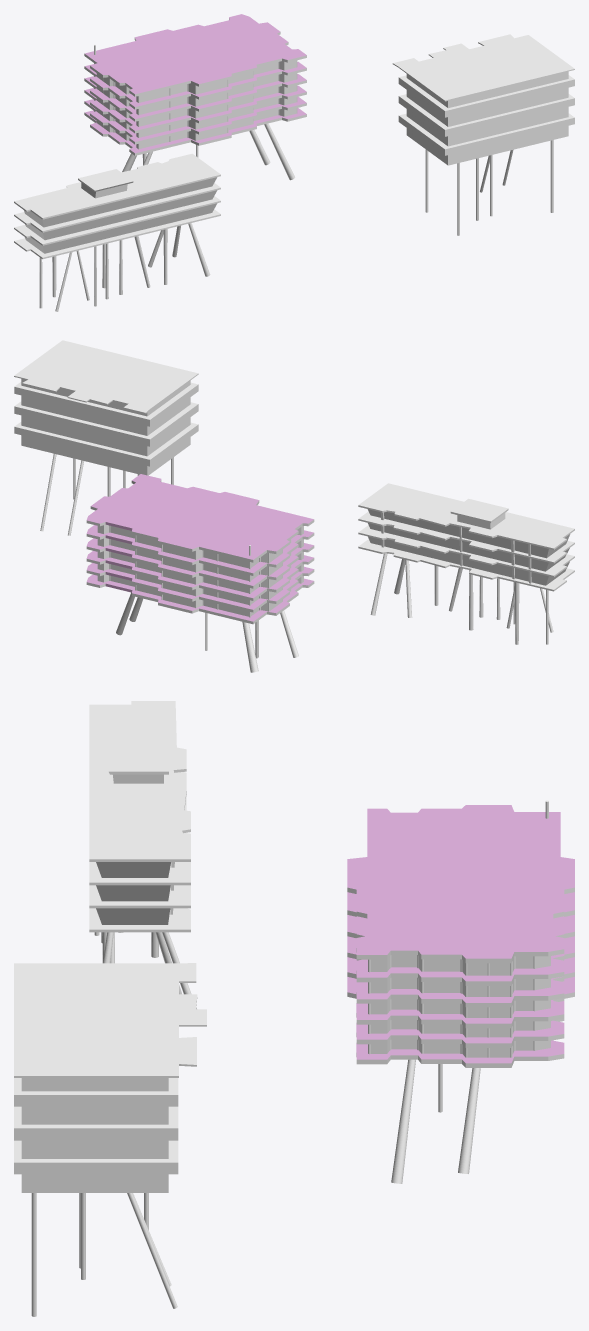
File: Buildings.gltf
The picture shows the model from 3 angles, top to bottom: view 1: azimuth 30°, elevation 25°; view 2: azimuth 150°, elevation 25°; view 3: azimuth 270°, elevation 25°; orthographic projection. The views are drawn at different scales.
Parts seen in each view (by area): view 1: Cube.004, Grid.002, Grid.001, Floor4.001, Rooms1, Rooms3, Rooms2, Grid.006, Grid.005, Grid.004, Grid, Grid.003 (+4 smaller); view 2: Cube.004, Grid.002, Grid.001, Floor4.001, Grid.006, Grid.005, Grid, Grid.004, Grid.003, Rooms1, Rooms3, Rooms2 (+4 smaller); view 3: Cube.004, Grid.002, Floor4.001, Grid.001, Grid.006, Grid.005, Grid.004, Grid.003, Grid, Roof.001, Floor3, Floor1 (+6 smaller).
Part boxes in pixels (x1=…): Cube.004: x1=392, y1=34, x2=574, y2=165; Grid.002: x1=84, y1=14, x2=306, y2=96; Grid.001: x1=97, y1=60, x2=296, y2=148; Floor4.001: x1=14, y1=153, x2=220, y2=219; Rooms1: x1=24, y1=203, x2=217, y2=253; Rooms3: x1=24, y1=177, x2=217, y2=227; Rooms2: x1=25, y1=190, x2=217, y2=240; Grid.006: x1=84, y1=61, x2=306, y2=109; Grid.005: x1=84, y1=74, x2=306, y2=121; Grid.004: x1=84, y1=85, x2=306, y2=133; Grid: x1=84, y1=108, x2=306, y2=155; Grid.003: x1=84, y1=96, x2=306, y2=144; Cube.004: x1=14, y1=340, x2=198, y2=475; Grid.002: x1=86, y1=474, x2=314, y2=562; Grid.001: x1=97, y1=524, x2=303, y2=616; Floor4.001: x1=358, y1=483, x2=574, y2=549; Grid.006: x1=86, y1=525, x2=314, y2=575; Grid.005: x1=86, y1=538, x2=314, y2=588; Grid: x1=86, y1=574, x2=314, y2=624; Grid.004: x1=86, y1=551, x2=314, y2=600; Grid.003: x1=86, y1=563, x2=314, y2=612; Rooms1: x1=368, y1=536, x2=569, y2=585; Rooms3: x1=367, y1=509, x2=570, y2=558; Rooms2: x1=368, y1=523, x2=569, y2=571; Cube.004: x1=14, y1=963, x2=206, y2=1192; Grid.002: x1=347, y1=805, x2=574, y2=963; Floor4.001: x1=89, y1=701, x2=190, y2=861; Grid.001: x1=370, y1=955, x2=550, y2=1057; Grid.006: x1=347, y1=892, x2=574, y2=985; Grid.005: x1=347, y1=915, x2=574, y2=1007; Grid.004: x1=347, y1=936, x2=574, y2=1028; Grid.003: x1=347, y1=957, x2=574, y2=1047; Grid: x1=347, y1=977, x2=574, y2=1067; Roof.001: x1=108, y1=738, x2=168, y2=774; Floor3: x1=89, y1=772, x2=190, y2=885; Floor1: x1=89, y1=832, x2=190, y2=932.
Size of the model in its own units: 20.74 by 5.65 by 11.02.
